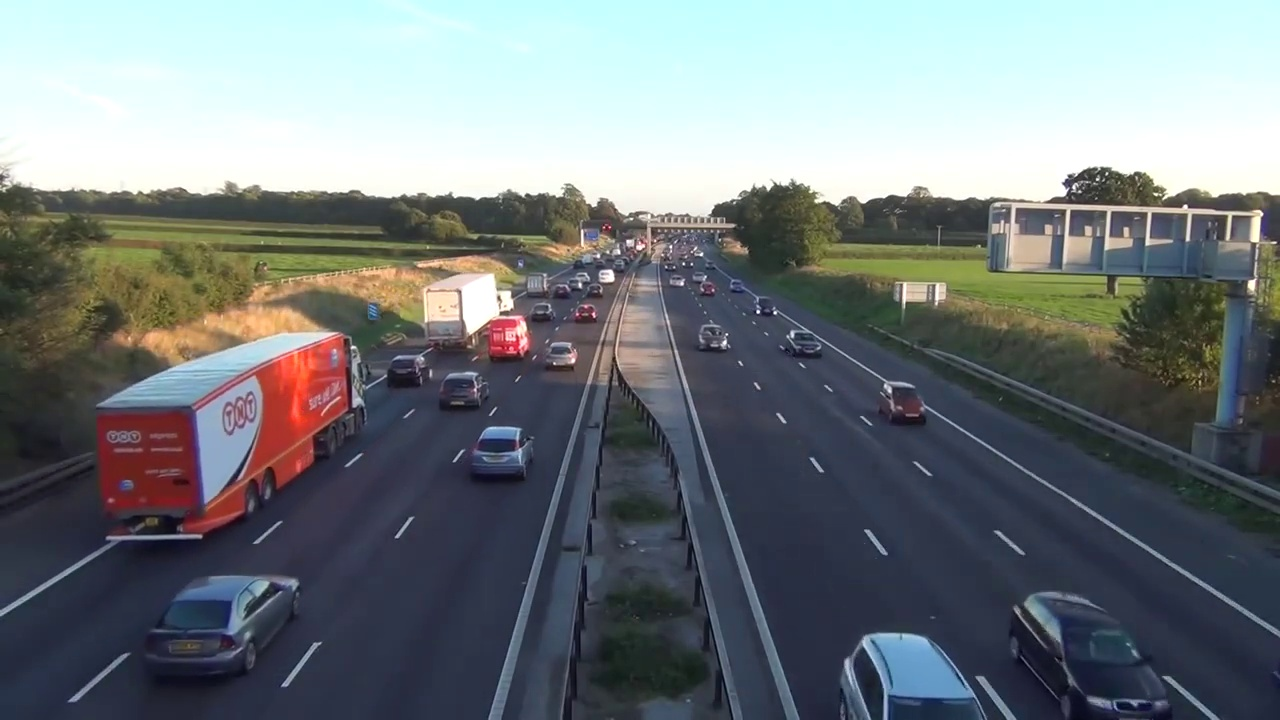bus: (1006, 577, 1183, 720), (144, 572, 304, 680), (829, 629, 989, 720), (471, 423, 537, 483), (876, 380, 928, 427), (439, 369, 491, 413), (389, 353, 431, 388), (696, 321, 733, 352), (543, 342, 580, 372), (784, 328, 821, 358), (751, 295, 778, 317), (574, 304, 599, 323), (531, 304, 556, 319), (554, 284, 574, 299), (700, 282, 717, 297), (588, 283, 606, 297), (729, 279, 747, 293)
car: (101, 330, 370, 554), (424, 272, 503, 346), (525, 272, 549, 298)
lorry: (498, 290, 518, 313)
minibus: (486, 323, 529, 358)
